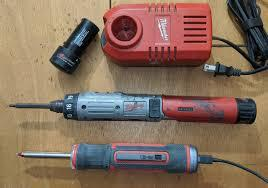screwdriver: (48, 89, 257, 124), (68, 140, 199, 175)
